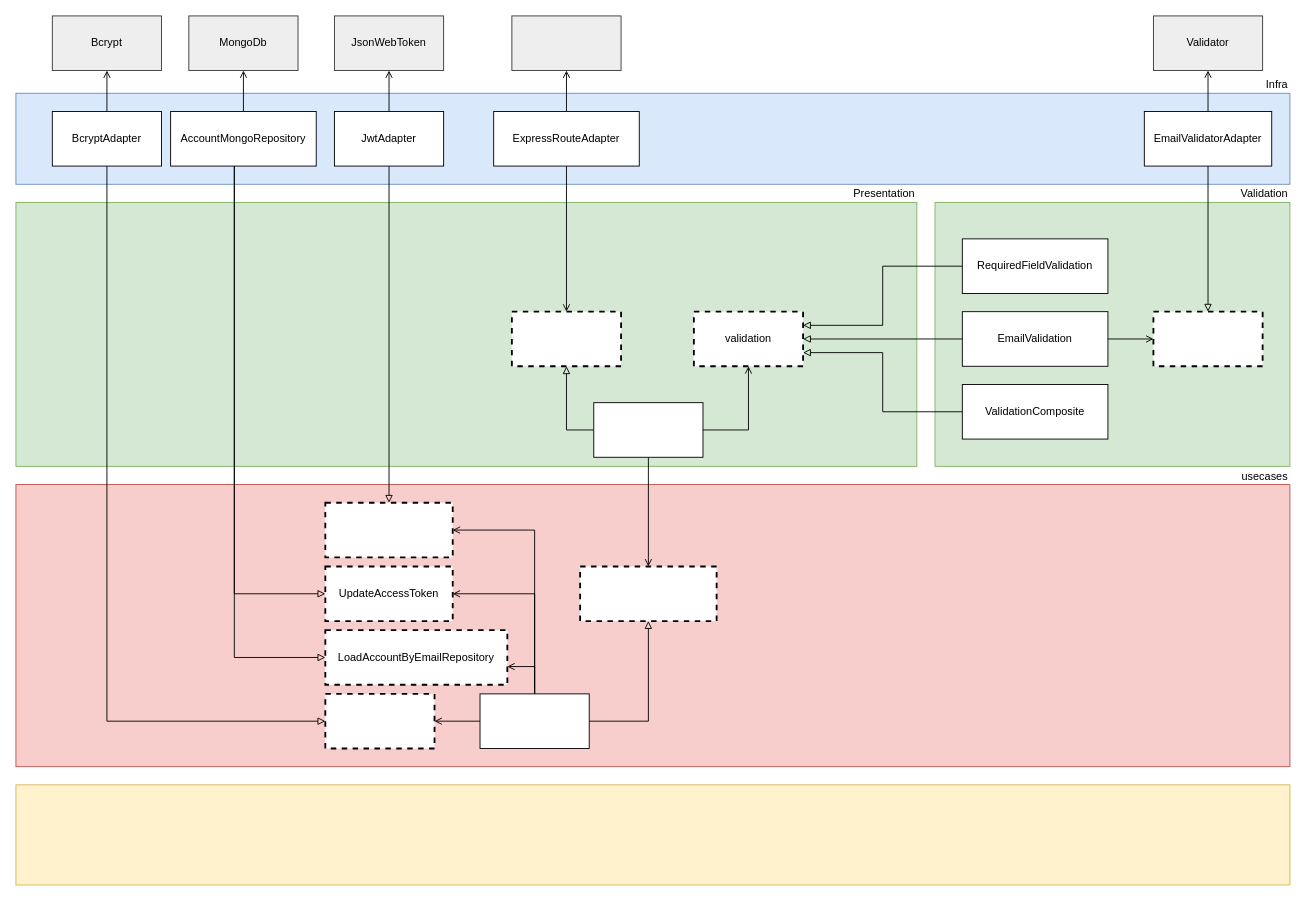
The diagram is 1306 pixels wide and 901 high, and some of its shapes have lost their labels. The box of each missing label's shape, as (x1, y1, x2, y2) in pixels:
Authentication: (479, 693, 589, 748)
AuthenticationInterface: (579, 565, 717, 622)
Controller: (511, 310, 622, 367)
domain: (15, 784, 1290, 885)
EmailValidator: (1152, 310, 1263, 367)
Express: (511, 15, 621, 71)
HashComparer: (324, 693, 435, 749)
LoginController: (593, 402, 703, 457)
TokenGenerator: (324, 501, 453, 558)
